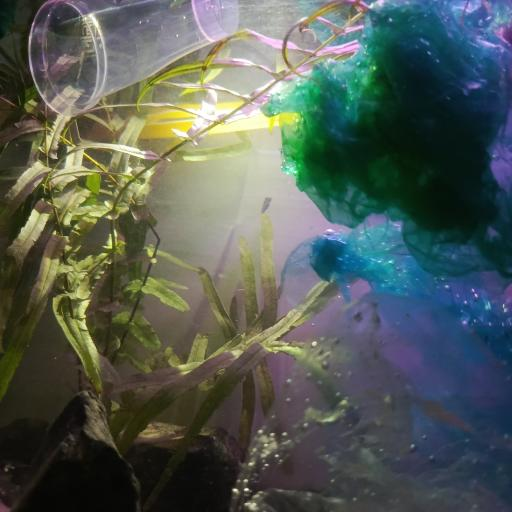plastic_bag: (281, 0, 509, 415), (227, 283, 512, 510), (305, 0, 512, 274)
plastic_cup: (26, 0, 242, 118)
plastic_straw: (142, 107, 297, 142)
